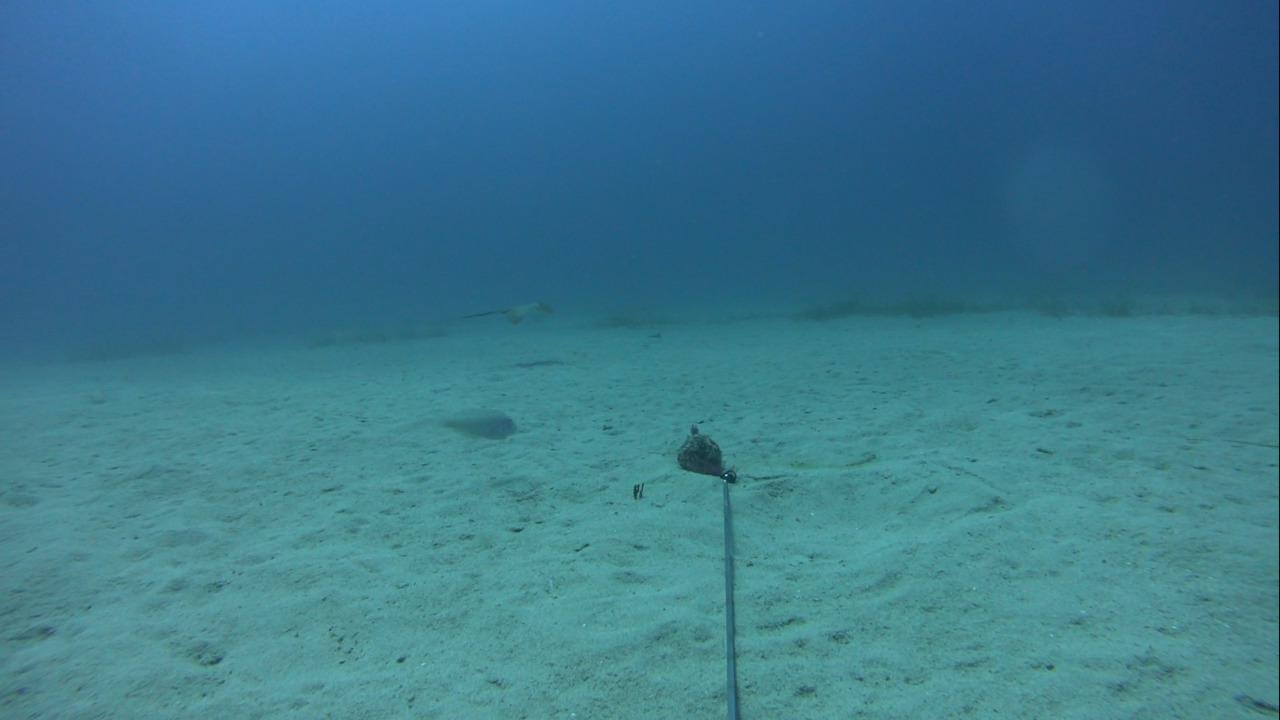myliobatis: (440, 289, 557, 338)
raor: (428, 404, 518, 445)
